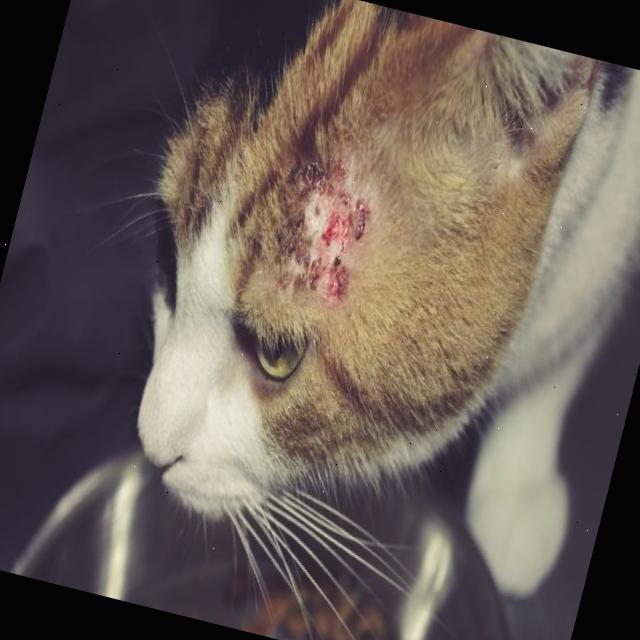cat-dermatitis: (281, 163, 375, 297)
